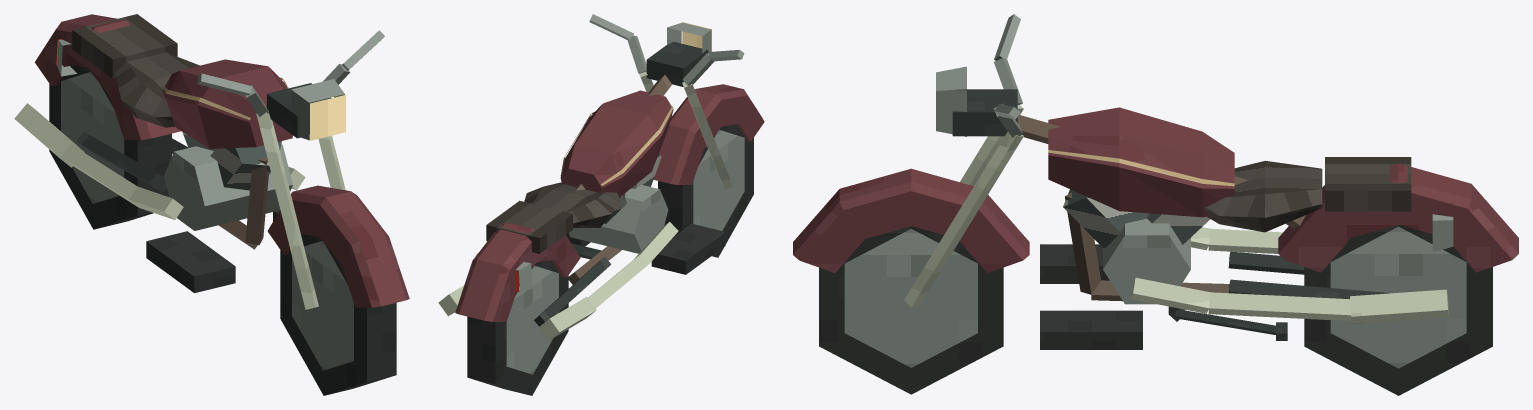
Rendered from brackenton-1947-mid.glb.
3 renders of one model, left to right at view 1: azimuth 30°, elevation 25°; view 2: azimuth 150°, elevation 25°; view 3: azimuth 270°, elevation 25°, orthographic. The views are drawn at different scales.
Parts seen in each view (by area): view 1: body, Front valanced or bobbed mudguard, Low detail tyre, Distance hub, Low detail tyre.001, Distance hub.002, Fork leg, Lamp lens, Stove enamel lamp bucket, Lamp mounting yoke, Fork leg.001, Swept handlebar (+1 smaller); view 2: body, Front valanced or bobbed mudguard, Low detail tyre.001, Distance hub, Distance hub.002, Low detail tyre, Lamp mounting yoke, Fork leg, Stove enamel lamp bucket, Swept handlebar.001, Handlebar riser, Handlebar riser.001 (+3 smaller); view 3: body, Distance hub.001, Front valanced or bobbed mudguard, Distance hub.003, Low detail tyre, Low detail tyre.001, Fork leg.001, Lamp mounting yoke, Stove enamel lamp bucket, Folding stand leg, Fork leg, Stove enamel lamp bucket.001.
Part boxes in pixels (x1,y1,x2,y2): body: [14, 14, 305, 293]; Front valanced or bobbed mudguard: [267, 185, 409, 307]; Low detail tyre: [280, 234, 396, 395]; Distance hub: [292, 240, 353, 370]; Low detail tyre.001: [49, 65, 171, 229]; Distance hub.002: [61, 72, 124, 203]; Fork leg: [256, 110, 318, 309]; Lamp lens: [310, 95, 345, 140]; Stove enamel lamp bucket: [291, 79, 344, 140]; Lamp mounting yoke: [267, 83, 331, 138]; Fork leg.001: [318, 135, 345, 190]; Swept handlebar: [197, 73, 251, 96]; body: [438, 75, 725, 340]; Front valanced or bobbed mudguard: [653, 84, 764, 184]; Low detail tyre.001: [467, 260, 568, 395]; Distance hub: [693, 130, 744, 230]; Distance hub.002: [506, 265, 558, 374]; Low detail tyre: [658, 124, 753, 257]; Lamp mounting yoke: [646, 41, 708, 86]; Fork leg: [682, 82, 732, 189]; Stove enamel lamp bucket: [667, 22, 711, 53]; Swept handlebar.001: [589, 14, 633, 39]; Handlebar riser: [682, 53, 714, 85]; Handlebar riser.001: [627, 35, 646, 73]; body: [1017, 107, 1518, 349]; Distance hub.001: [844, 229, 977, 367]; Front valanced or bobbed mudguard: [793, 168, 1029, 272]; Distance hub.003: [1330, 226, 1466, 368]; Low detail tyre: [819, 226, 1003, 394]; Low detail tyre.001: [1304, 224, 1492, 395]; Fork leg.001: [904, 131, 1023, 307]; Lamp mounting yoke: [952, 89, 1017, 136]; Stove enamel lamp bucket: [936, 66, 966, 136]; Folding stand leg: [1175, 309, 1281, 334]; Fork leg: [960, 105, 1023, 185]; Stove enamel lamp bucket.001: [1432, 214, 1453, 252].
Size of the model in its own units: 0.7387 by 1.16 by 2.35.
Materials: 5 (5 with a texture image).
